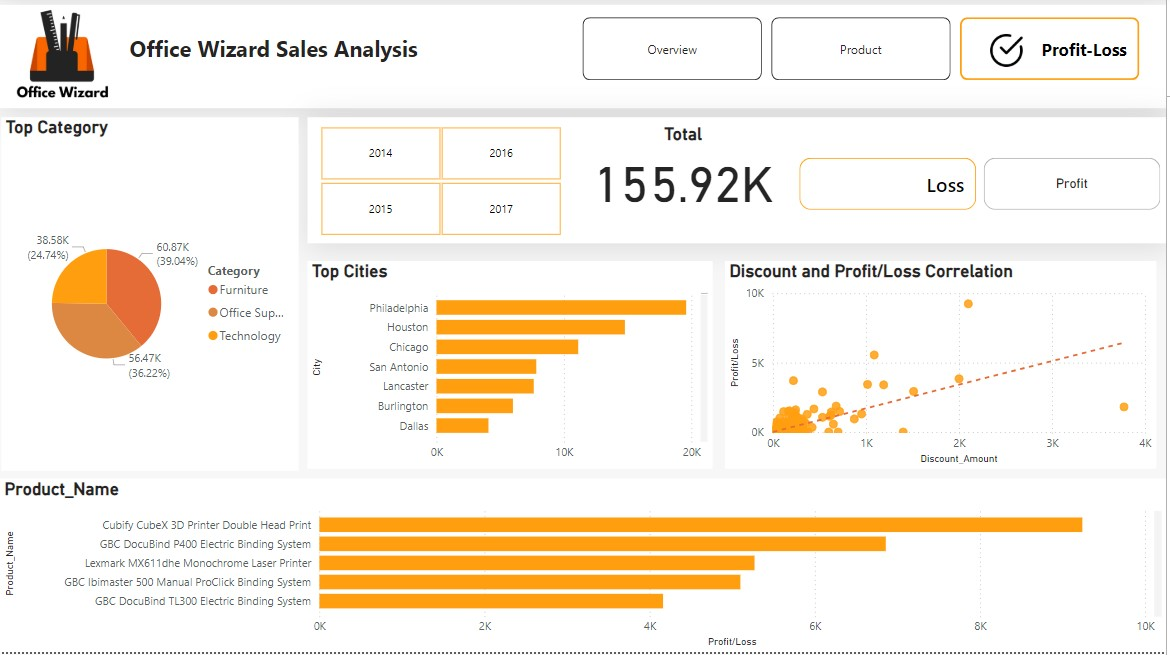

The dashboard page shown, as its layout file describes it:
{"tool":"powerbi","page":{"name":"Profit-Loss","canvas":[1280,720],"ordinal":2},"visuals":[{"type":"shape","box":[0,10,1280.3,113.9],"z":0},{"type":"image","box":[0,0,137.2,123.5],"z":1000},{"type":"pageNavigator","box":[639.5,23.3,613.4,70],"z":2000},{"type":"shape","box":[337.6,133.1,942.7,138.6],"z":3000},{"type":"image","box":[1067.6,32.9,74.1,53.5],"z":4000},{"type":"advancedSlicerVisual","fields":{"Values":["Profit_Loss_Option.Name"]},"box":[872.7,172.9,407.5,67.2],"z":5000},{"type":"slicer","fields":{"Values":["Sheet1.Date.Variation.Date Hierarchy.Year"]},"box":[326.6,137.2,312.9,131.7],"z":6000},{"type":"card","title":"Total","fields":{"Values":["Sheet1.Profit/Loss"]},"box":[639.5,140,220.9,100.2],"z":7000},{"type":"barChart","title":"Product_Name","fields":{"Category":["Sheet1.Product_Name"],"Y":["Sheet1.Profit/Loss"]},"box":[0,529.7,1280.3,190.7],"z":8000},{"type":"scatterChart","title":" Discount and Profit/Loss Correlation","fields":{"Y":["Sheet1.Profit/Loss"],"X":["Sheet1.Discount_Amount"]},"box":[795.9,290.9,473.4,227.8],"z":9000},{"type":"barChart","title":"Top Cities","fields":{"Category":["Sheet1.City"],"Y":["Sheet1.Profit/Loss"]},"box":[337.6,290.9,444.6,227.8],"z":10000},{"type":"pieChart","title":"Top Category","fields":{"Category":["Sheet1.Category"],"Y":["Sheet1.Profit/Loss"]},"box":[1.4,133.1,326.6,388.3],"z":11000},{"type":"textbox","box":[137.2,37,336.2,49.4],"z":12000}]}

Visuals, with their boxes in screenshot pixels (x1, y1, x2, y2), scaled from the page's 1280x720 canvas onto the 1170x655 screenshot:
shape: l=0, t=9, r=1169, b=113
image: l=0, t=0, r=125, b=112
pageNavigator: l=585, t=21, r=1145, b=85
shape: l=309, t=121, r=1169, b=247
image: l=976, t=30, r=1044, b=79
advancedSlicerVisual - Profit_Loss_Option.Name: l=798, t=157, r=1169, b=218
slicer - Sheet1.Date.Variation.Date Hierarchy.Year: l=299, t=125, r=585, b=245
"Total" card: l=585, t=127, r=786, b=219
"Product_Name" barChart: l=0, t=482, r=1169, b=654
" Discount and Profit/Loss Correlation" scatterChart: l=728, t=265, r=1160, b=472
"Top Cities" barChart: l=309, t=265, r=715, b=472
"Top Category" pieChart: l=1, t=121, r=300, b=474
textbox: l=125, t=34, r=433, b=79
